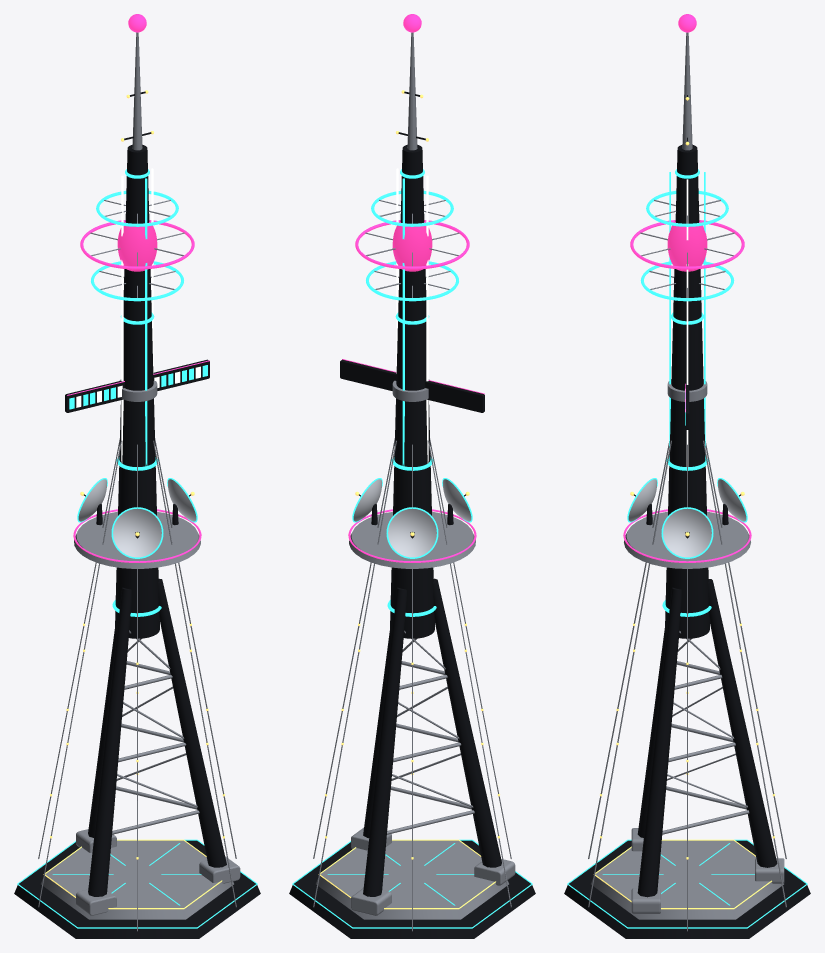
File: landmark_signal.glb
3 renders of one model, left to right at view 1: azimuth 30°, elevation 25°; view 2: azimuth 150°, elevation 25°; view 3: azimuth 270°, elevation 25°, orthographic.
Visible parts, largest first — view 1: panel_dark (×2), panel_grey (×2), neon (×4), dish, core_glass, neon2 (×2), light_white, neon_amber; view 2: panel_dark (×2), panel_grey (×2), neon (×3), dish, core_glass, neon2 (×2), light_white, neon_amber; view 3: panel_dark, panel_grey (×2), neon (×3), dish, core_glass, neon2 (×2), neon_amber, light_white.
Part boxes in pixels (<box>): panel_dark (×2): <box>14,91,260,938</box>; panel_grey (×2): <box>38,32,240,931</box>; neon (×4): <box>17,169,257,928</box>; dish: <box>78,479,196,557</box>; core_glass: <box>117,221,157,271</box>; neon2 (×2): <box>73,220,201,562</box>; light_white: <box>121,168,153,463</box>; neon_amber: <box>43,90,224,909</box>; panel_dark (×2): <box>289,91,535,938</box>; panel_grey (×2): <box>313,32,515,931</box>; neon (×3): <box>292,169,532,928</box>; dish: <box>353,479,471,557</box>; core_glass: <box>392,221,432,271</box>; neon2 (×2): <box>348,220,476,562</box>; light_white: <box>396,168,428,463</box>; neon_amber: <box>318,90,499,909</box>; panel_dark: <box>564,95,810,938</box>; panel_grey (×2): <box>588,32,786,931</box>; neon (×3): <box>567,169,807,928</box>; dish: <box>628,479,746,557</box>; core_glass: <box>667,221,707,271</box>; neon2 (×2): <box>623,220,751,562</box>; neon_amber: <box>593,97,774,909</box>; light_white: <box>686,179,688,466</box>.
Bounding box in the file's own units: 17.3 × 73.1 × 18.6.
